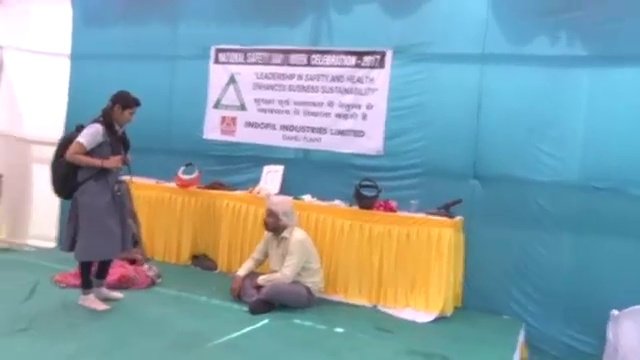helmet_off: (105, 91, 141, 128), (261, 198, 290, 236)
person: (50, 89, 141, 311), (226, 194, 327, 315)
